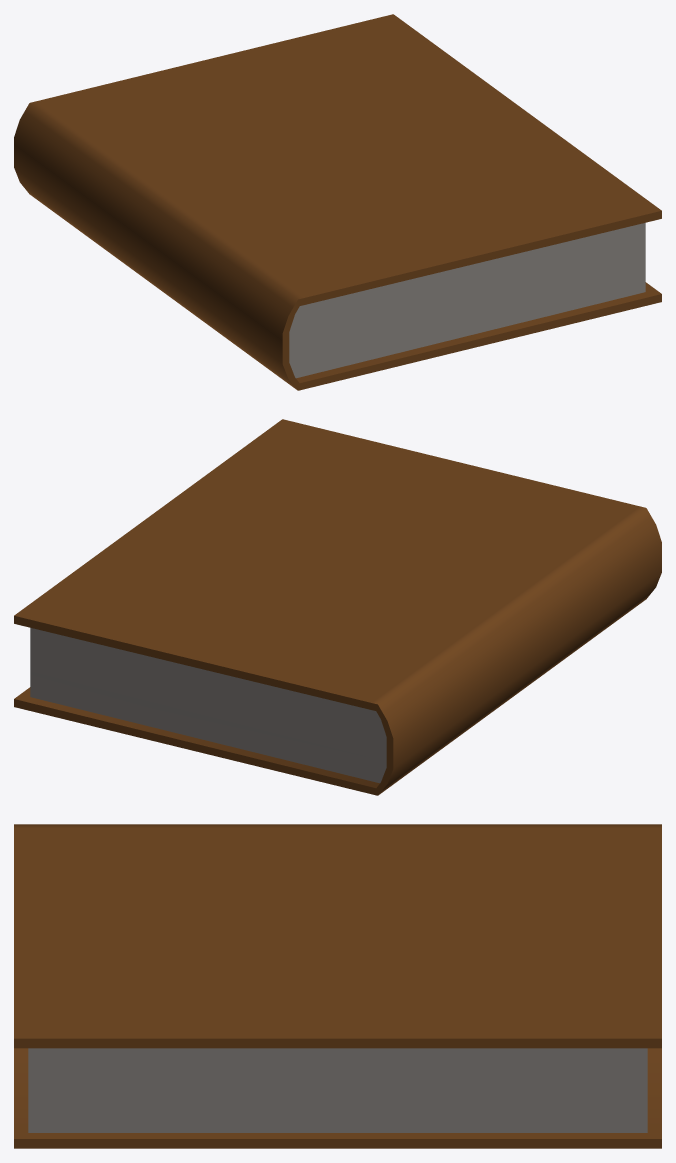
The model's file is singularbook1.fbx.
The picture shows the model from 3 angles, top to bottom: view 1: azimuth 30°, elevation 25°; view 2: azimuth 150°, elevation 25°; view 3: azimuth 270°, elevation 25°; orthographic projection. The views are drawn at different scales.
Visible parts, largest first — view 1: Singular Book; view 2: Singular Book; view 3: Singular Book.
Part boxes in pixels (x1,y1,x2,y2): Singular Book: (14,14,661,390); Singular Book: (14,419,661,795); Singular Book: (14,824,661,1148).
Bounding box in the file's own units: 29.1 × 6.69 × 35.67.
